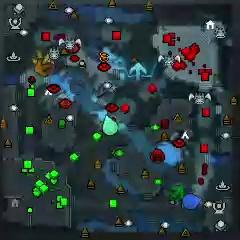p1: (182, 193, 202, 209)
p2: (103, 115, 118, 135)
x2: (33, 50, 51, 66)
x3: (129, 63, 147, 83)
x4: (168, 185, 184, 202)
x5: (34, 59, 54, 77)
